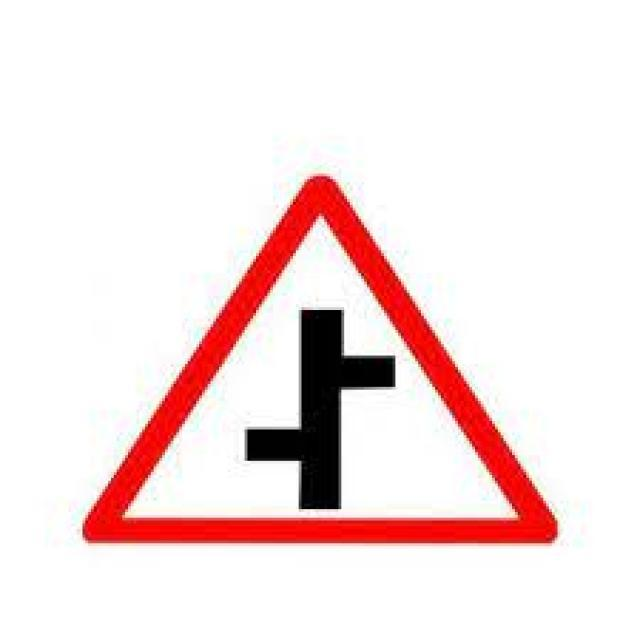staggered intersection: (81, 171, 556, 545)
